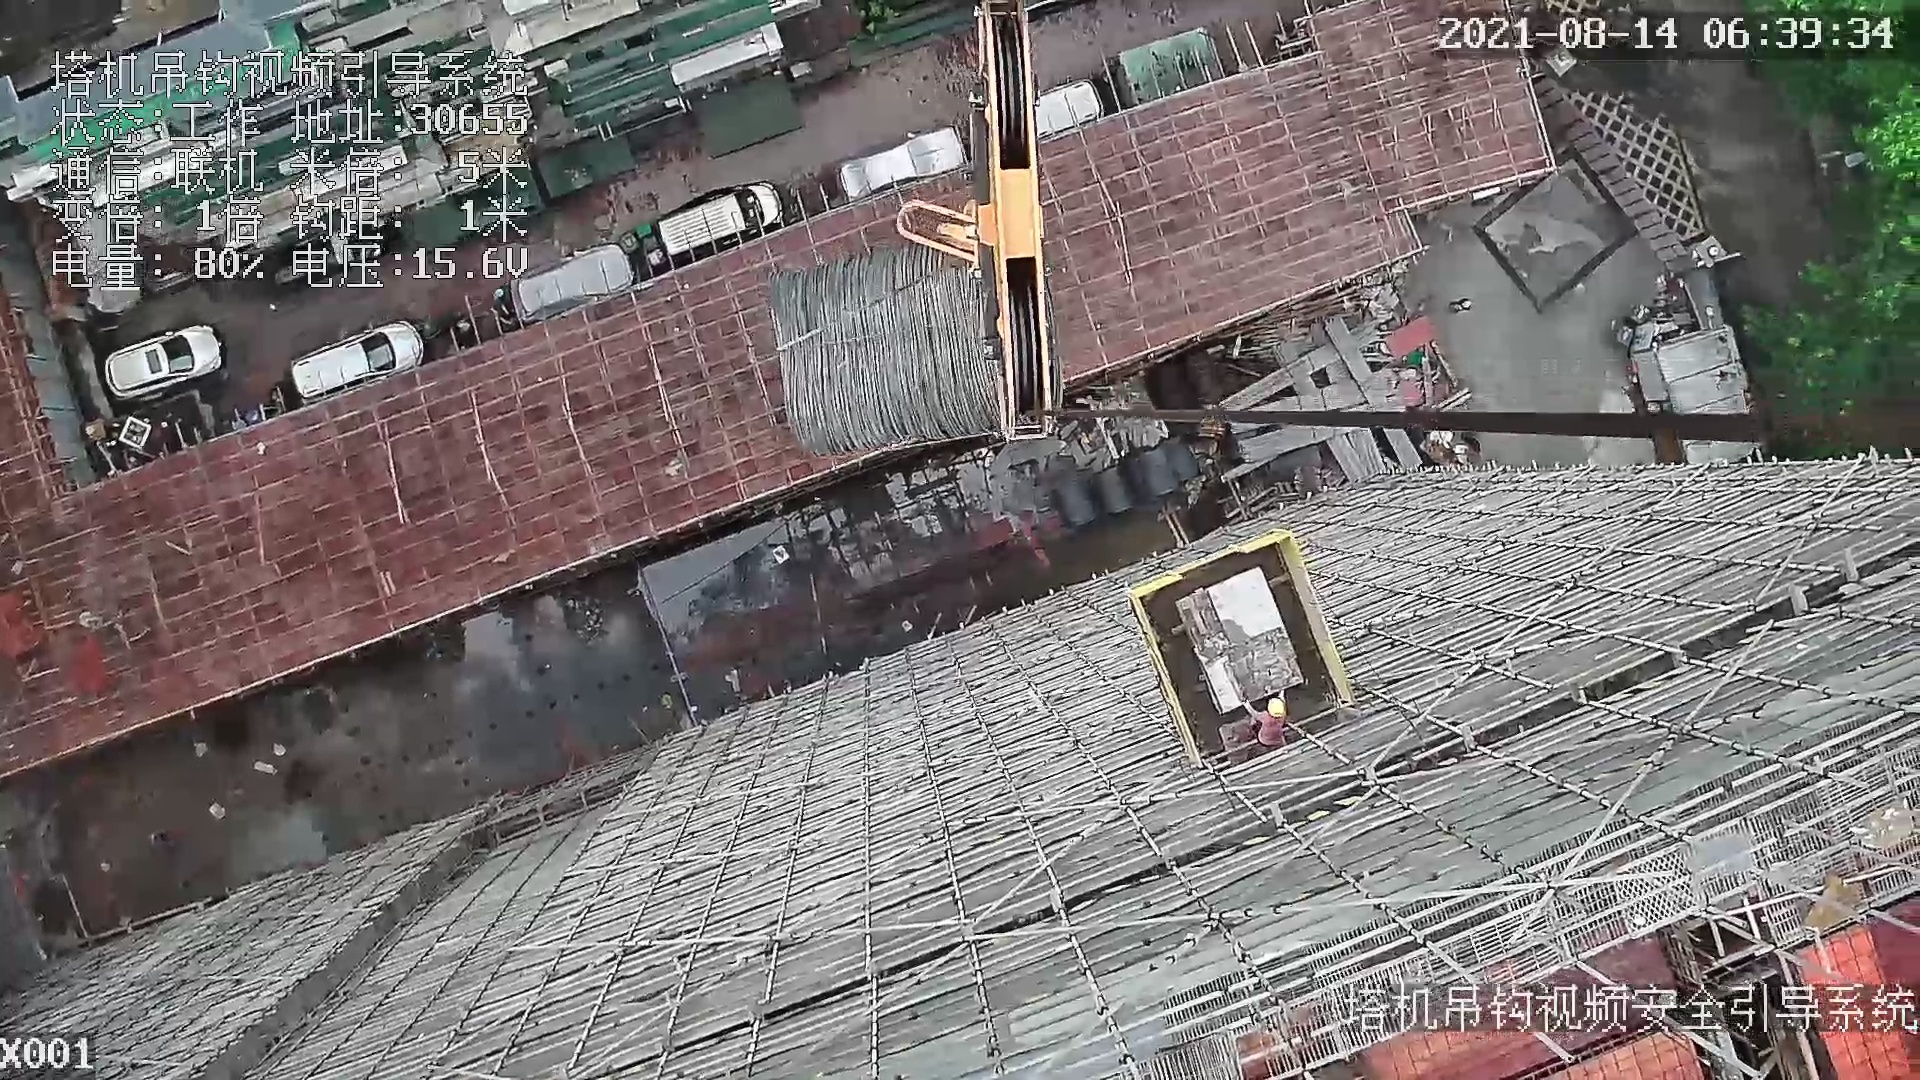helmet: (1261, 690, 1287, 722)
hook: (888, 6, 1063, 440)
person: (1237, 692, 1292, 754)
